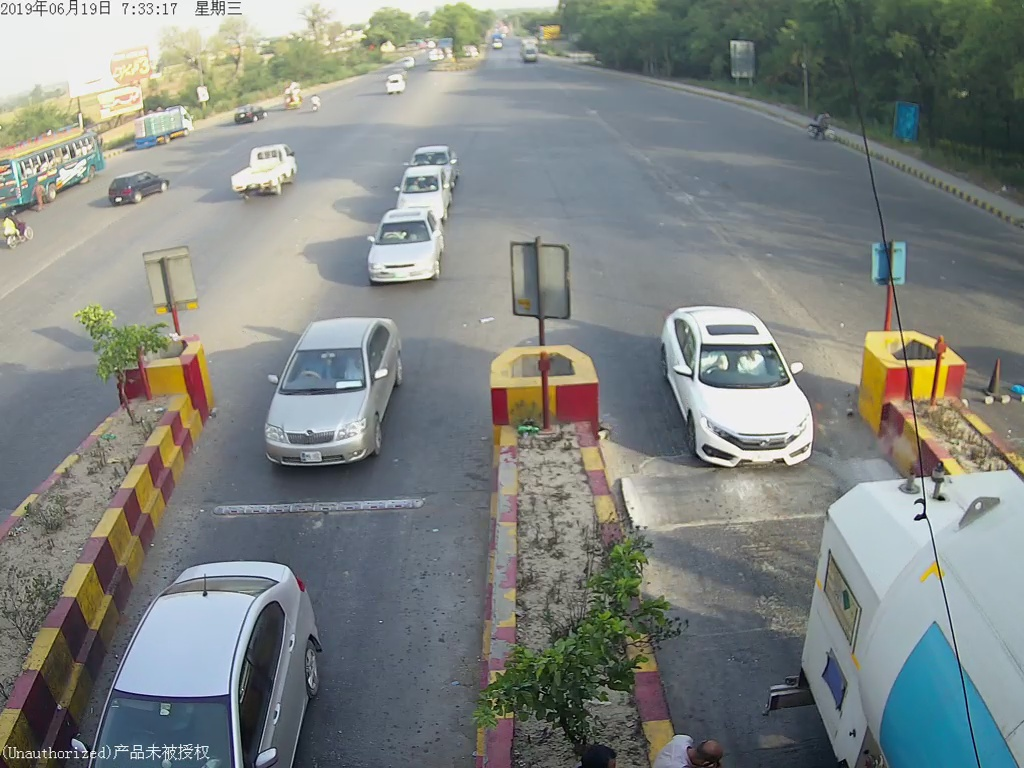Cat-1: (649, 293, 821, 476), (253, 315, 419, 473), (351, 212, 451, 296)
